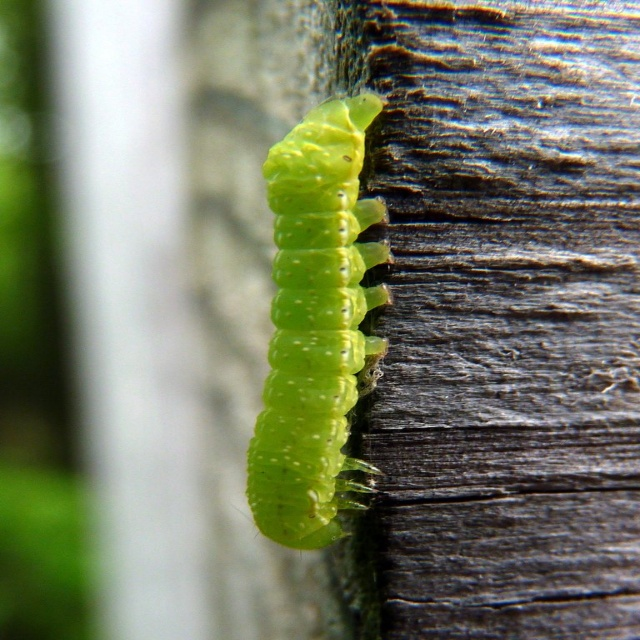Caterpillar: (244, 93, 381, 550)
